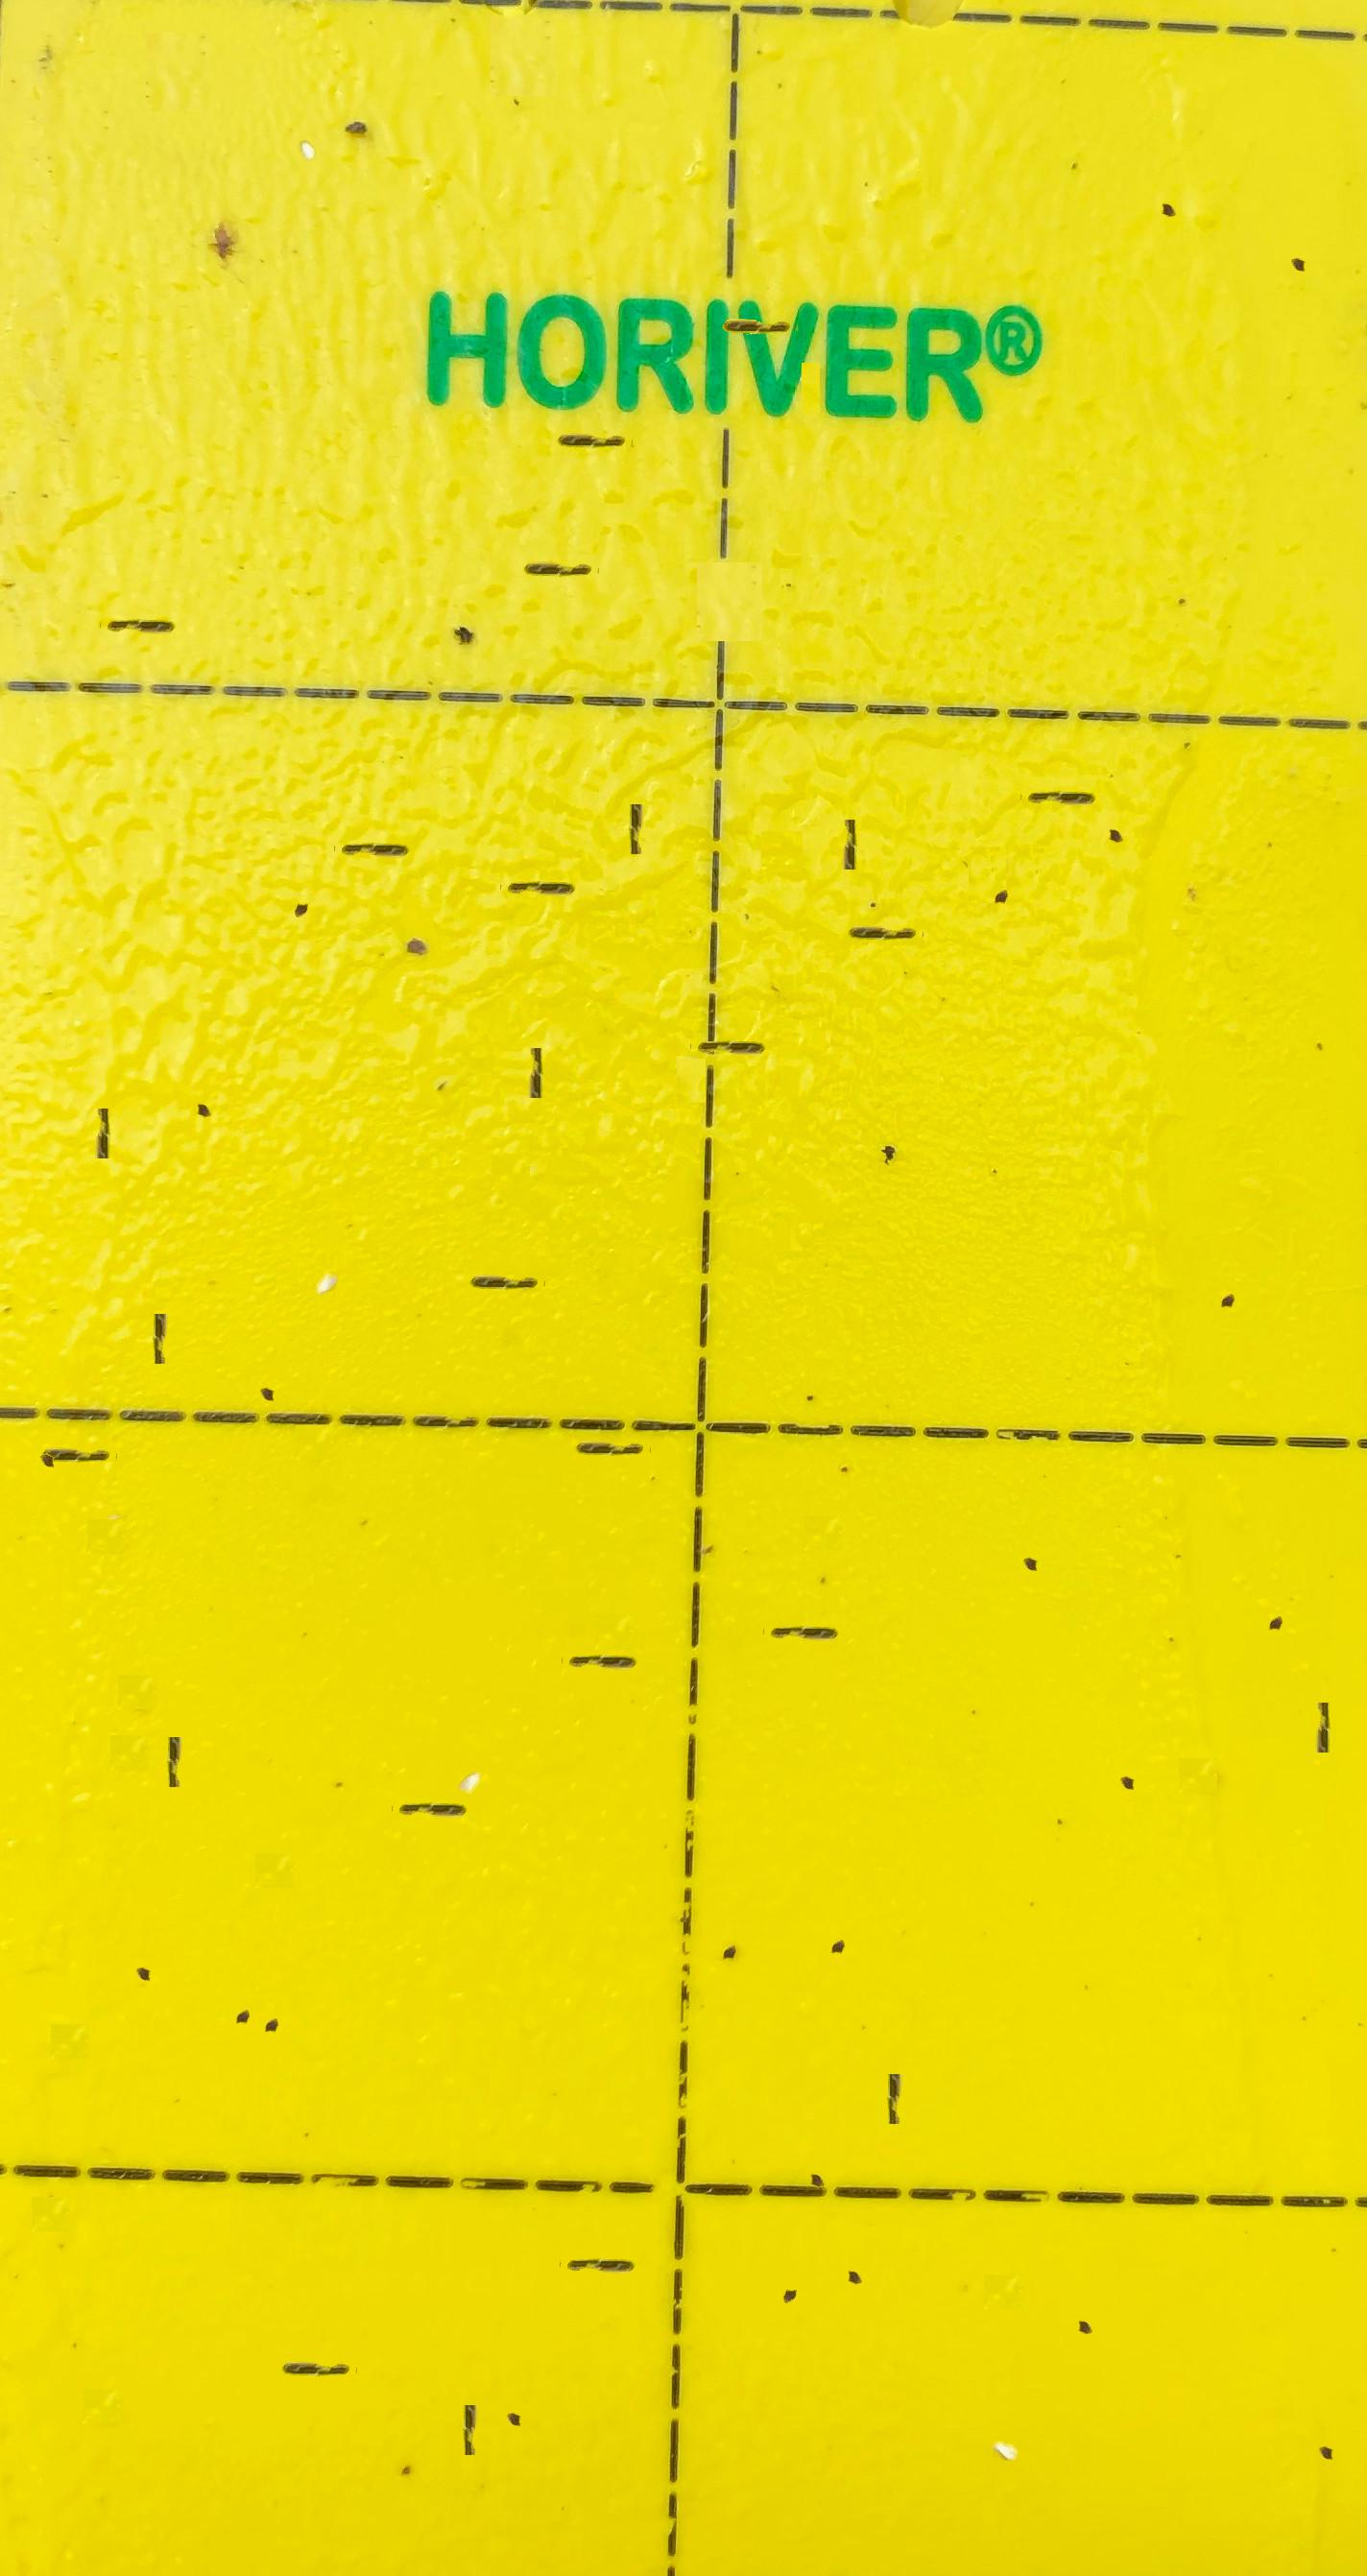white_fly: (286, 80, 329, 128), (987, 2382, 1030, 2428), (448, 1719, 491, 1762), (307, 1218, 348, 1261)
